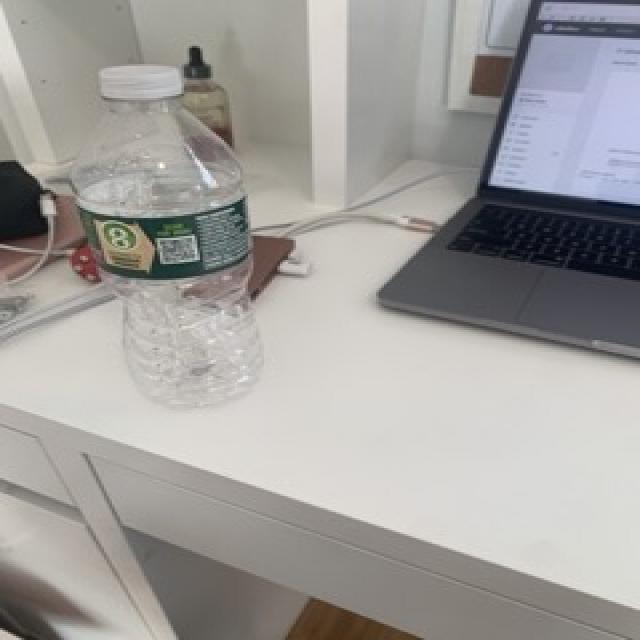water_bottle: (70, 61, 270, 411)
